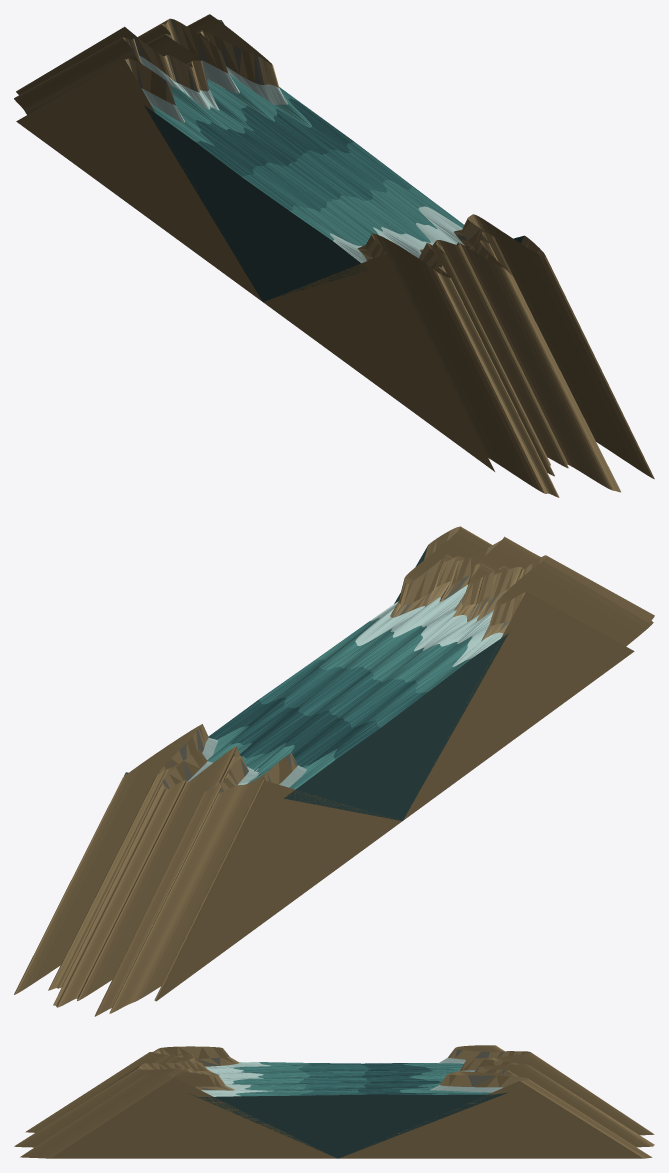
Rendered from river.glb.
3 views of the same model, one above another, from view 1: azimuth 30°, elevation 25°; view 2: azimuth 150°, elevation 25°; view 3: azimuth 270°, elevation 25° (orthographic). The views are drawn at different scales.
Visible parts, largest first — view 1: River_Channel; view 2: River_Channel; view 3: River_Channel.
Boxes of the visible parts, x1=… form: River_Channel: x1=14, y1=14, x2=654, y2=497; River_Channel: x1=14, y1=526, x2=654, y2=1016; River_Channel: x1=14, y1=1045, x2=654, y2=1158.
Bounding box in the file's own units: 1 × 1.18 × 8.26.
Materials: 1 (1 with a texture image).
